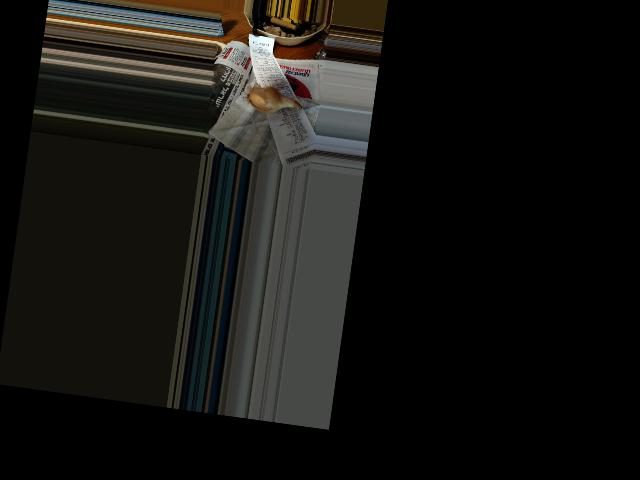onion: (246, 86, 291, 114)
